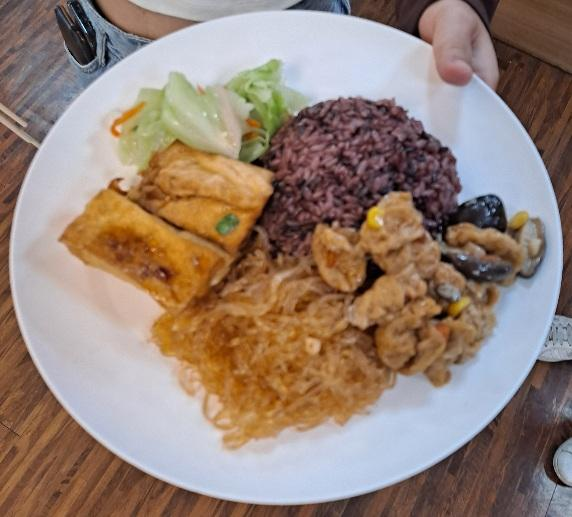big fried chicken leg: (14, 9, 566, 513)
braised fish: (261, 99, 458, 256)
braised fish fillet: (155, 251, 397, 444), (310, 189, 539, 387), (63, 137, 274, 310), (109, 56, 296, 166)
